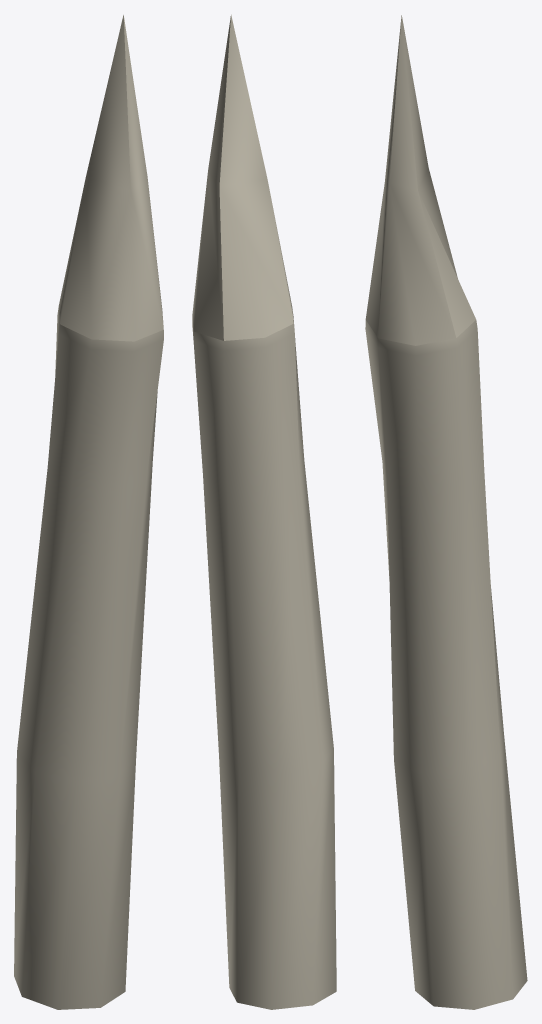
The model's file is Spike_01.fbx.
3 renders of one model, left to right at view 1: azimuth 30°, elevation 25°; view 2: azimuth 210°, elevation 25°; view 3: azimuth 270°, elevation 25°, orthographic. The views are drawn at different scales.
Visible parts, largest first — view 1: Spike_01; view 2: Spike_01; view 3: Spike_01.
Boxes of the visible parts, x1,y1,x2,y2 form: Spike_01: [14, 15, 163, 1009]; Spike_01: [192, 14, 336, 1009]; Spike_01: [365, 15, 527, 1009].
Size of the model in its own units: 6.61 by 53.13 by 7.93.
